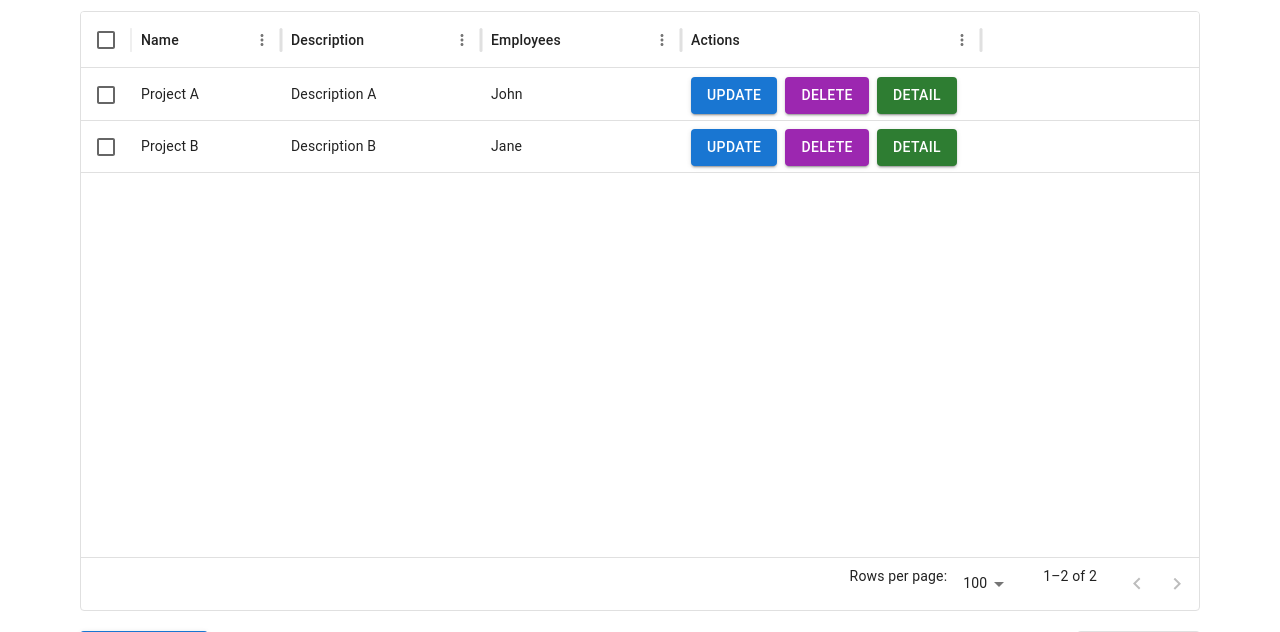
ListProjectsComponent › handles bulk delete dialog cancellation
Expected: the text "Project A" is shown, [141,86,199,102]
What coordinates should you click on to do the following:
click the checkbox named "Select row"
I would click on:
 (106, 94)
Its box is [94,82,118,106].
(page scrolled)
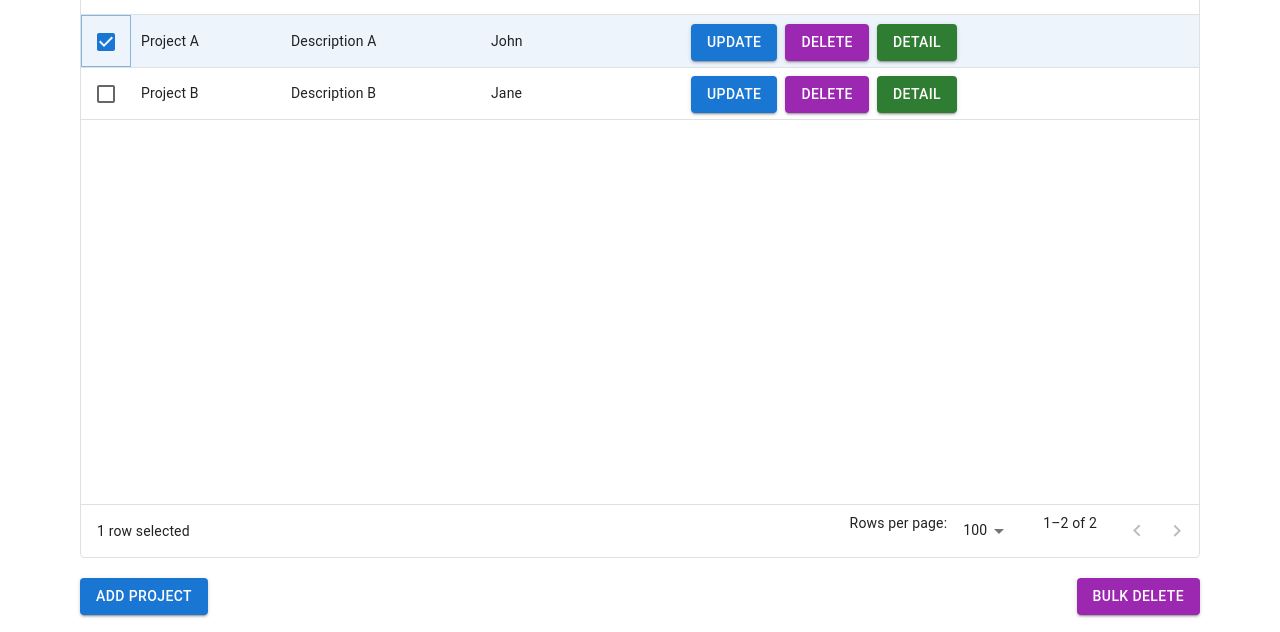
What coordinates should you click on to do the following:
click the button "Bulk Delete"
I would click on:
 (1138, 596)
Its box is [1077,578,1200,614].
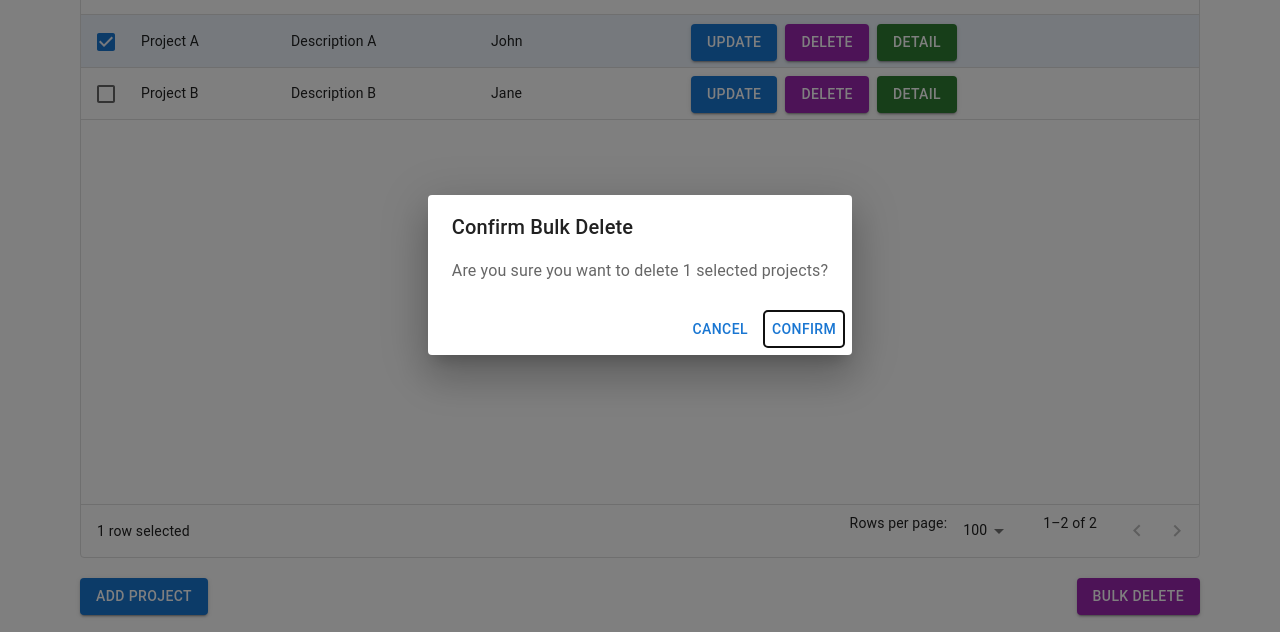
Expected: the heading "Confirm Bulk Delete" is shown, [452,215,633,239]
What coordinates should you click on to do the following:
click the button "Cancel"
I would click on:
 (720, 329)
Its box is [684,311,756,347].
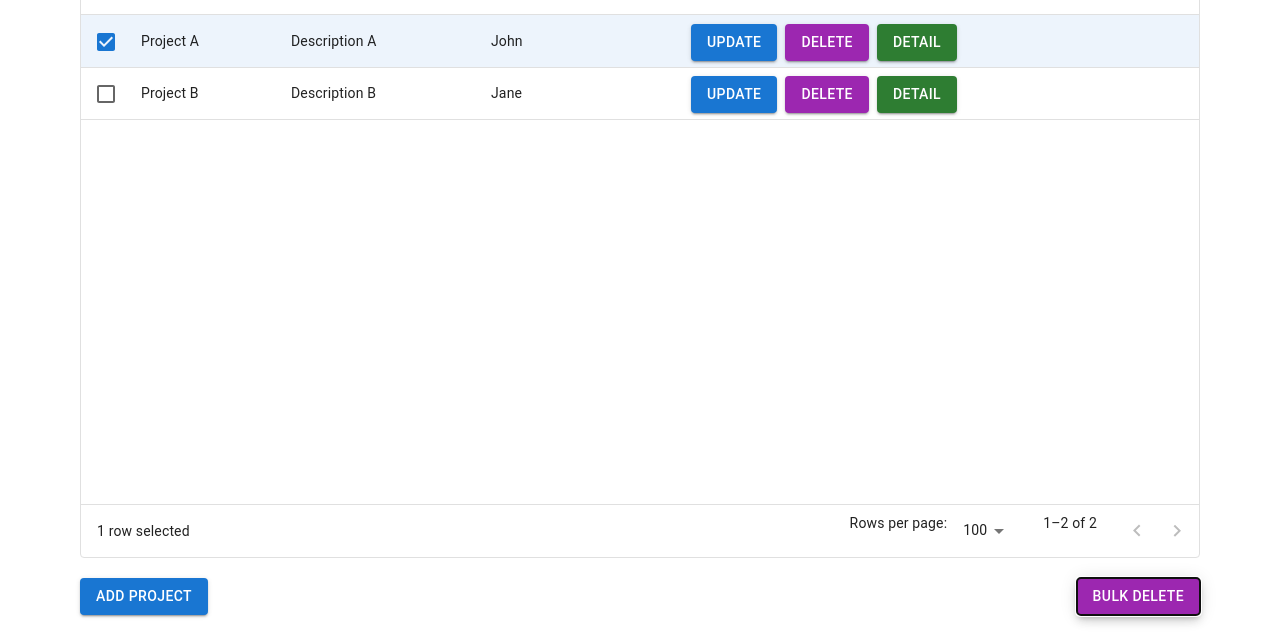
Expected: the dialog is gone
